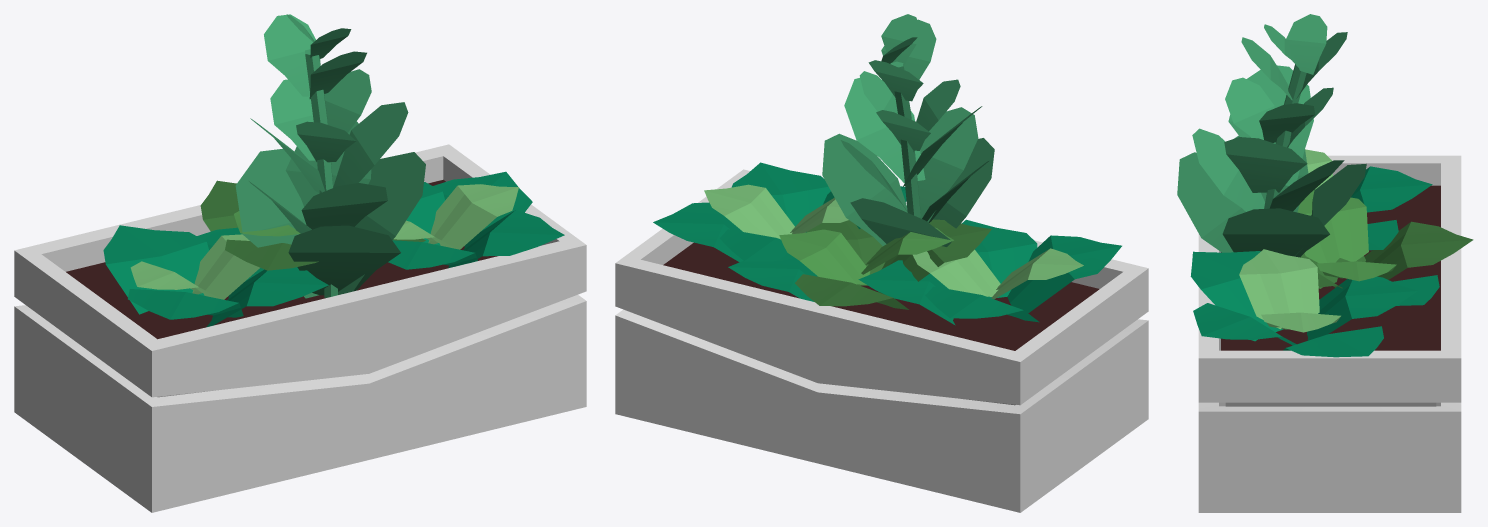
Rendered from Plant_Farm_02.fbx.
The picture shows the model from 3 angles, left to right: view 1: azimuth 30°, elevation 25°; view 2: azimuth 150°, elevation 25°; view 3: azimuth 270°, elevation 25°; orthographic projection. The views are drawn at different scales.
Visible parts, largest first — view 1: polySurface1683, polySurface1684, polySurface2413, polySurface1687, polySurface1458, polySurface2371, polySurface2373, polySurface1462, polySurface1457, polySurface1460, polySurface2370, polySurface2367 (+4 smaller); view 2: polySurface1683, polySurface1684, polySurface2413, polySurface1687, polySurface1457, polySurface2364, polySurface2371, polySurface2373, polySurface2372, polySurface1462, polySurface1460, polySurface1461 (+9 smaller); view 3: polySurface1683, polySurface2413, polySurface1684, polySurface1687, polySurface2376, polySurface2375, polySurface2366, polySurface2370, polySurface2369, polySurface1458, polySurface2373, polySurface2372 (+6 smaller).
Boxes of the visible parts, x1,y1,x2,y2 form: polySurface1683: [14, 294, 586, 512]; polySurface1684: [14, 144, 586, 397]; polySurface2413: [235, 14, 425, 298]; polySurface1687: [66, 179, 497, 339]; polySurface1458: [103, 225, 208, 314]; polySurface2371: [428, 184, 518, 249]; polySurface2373: [448, 210, 564, 268]; polySurface1462: [206, 267, 328, 327]; polySurface1457: [128, 289, 243, 319]; polySurface1460: [192, 234, 259, 299]; polySurface2370: [388, 240, 477, 269]; polySurface2367: [225, 239, 318, 270]; polySurface1683: [615, 309, 1148, 512]; polySurface1684: [615, 169, 1148, 405]; polySurface2413: [822, 14, 994, 246]; polySurface1687: [663, 242, 1099, 350]; polySurface1457: [1007, 235, 1121, 313]; polySurface2364: [779, 229, 870, 284]; polySurface2371: [704, 184, 794, 239]; polySurface2373: [731, 162, 830, 231]; polySurface2372: [653, 202, 743, 262]; polySurface1462: [948, 219, 1037, 297]; polySurface1460: [913, 249, 1000, 296]; polySurface1461: [858, 260, 955, 325]; polySurface1683: [1198, 251, 1461, 512]; polySurface2413: [1177, 14, 1366, 257]; polySurface1684: [1198, 155, 1461, 402]; polySurface1687: [1221, 185, 1440, 350]; polySurface2376: [1239, 249, 1319, 329]; polySurface2375: [1307, 276, 1417, 340]; polySurface2366: [1364, 221, 1473, 279]; polySurface2370: [1190, 251, 1283, 341]; polySurface2369: [1297, 189, 1368, 263]; polySurface1458: [1351, 166, 1432, 212]; polySurface2373: [1193, 303, 1296, 345]; polySurface2372: [1283, 326, 1383, 357].
Size of the model in its own units: 2.47 by 2.16 by 1.5.
